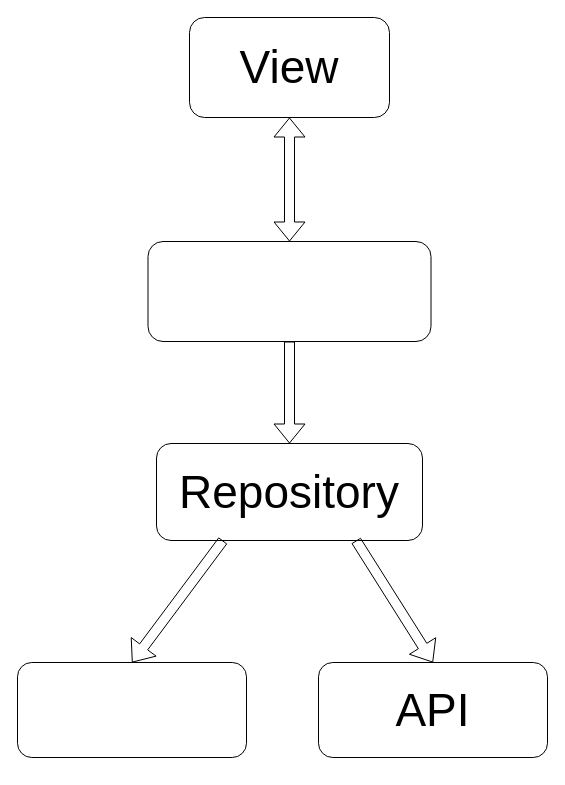
The diagram is 565 pixels wide and 785 high, and some of its shapes have lost their labels. Here are the shapes that lost their labels. From the top down, the centre of each, then its label:
At (x=289, y=291): "ViewModel".
At (x=131, y=710): "SQLite".
